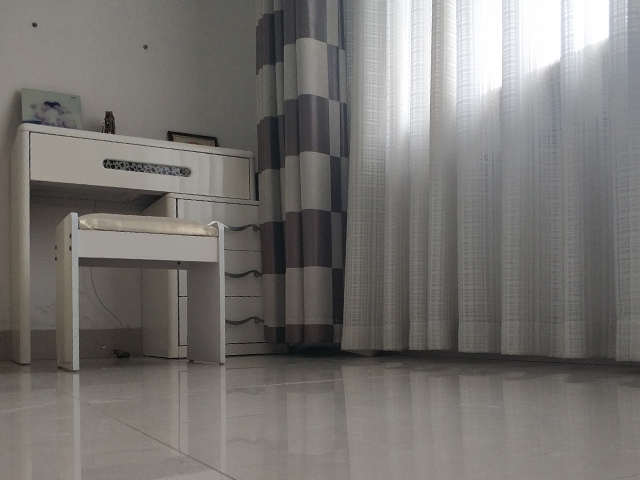curtain: (341, 1, 640, 365), (251, 1, 339, 354)
stool: (52, 210, 229, 373)
table: (5, 120, 290, 367)
